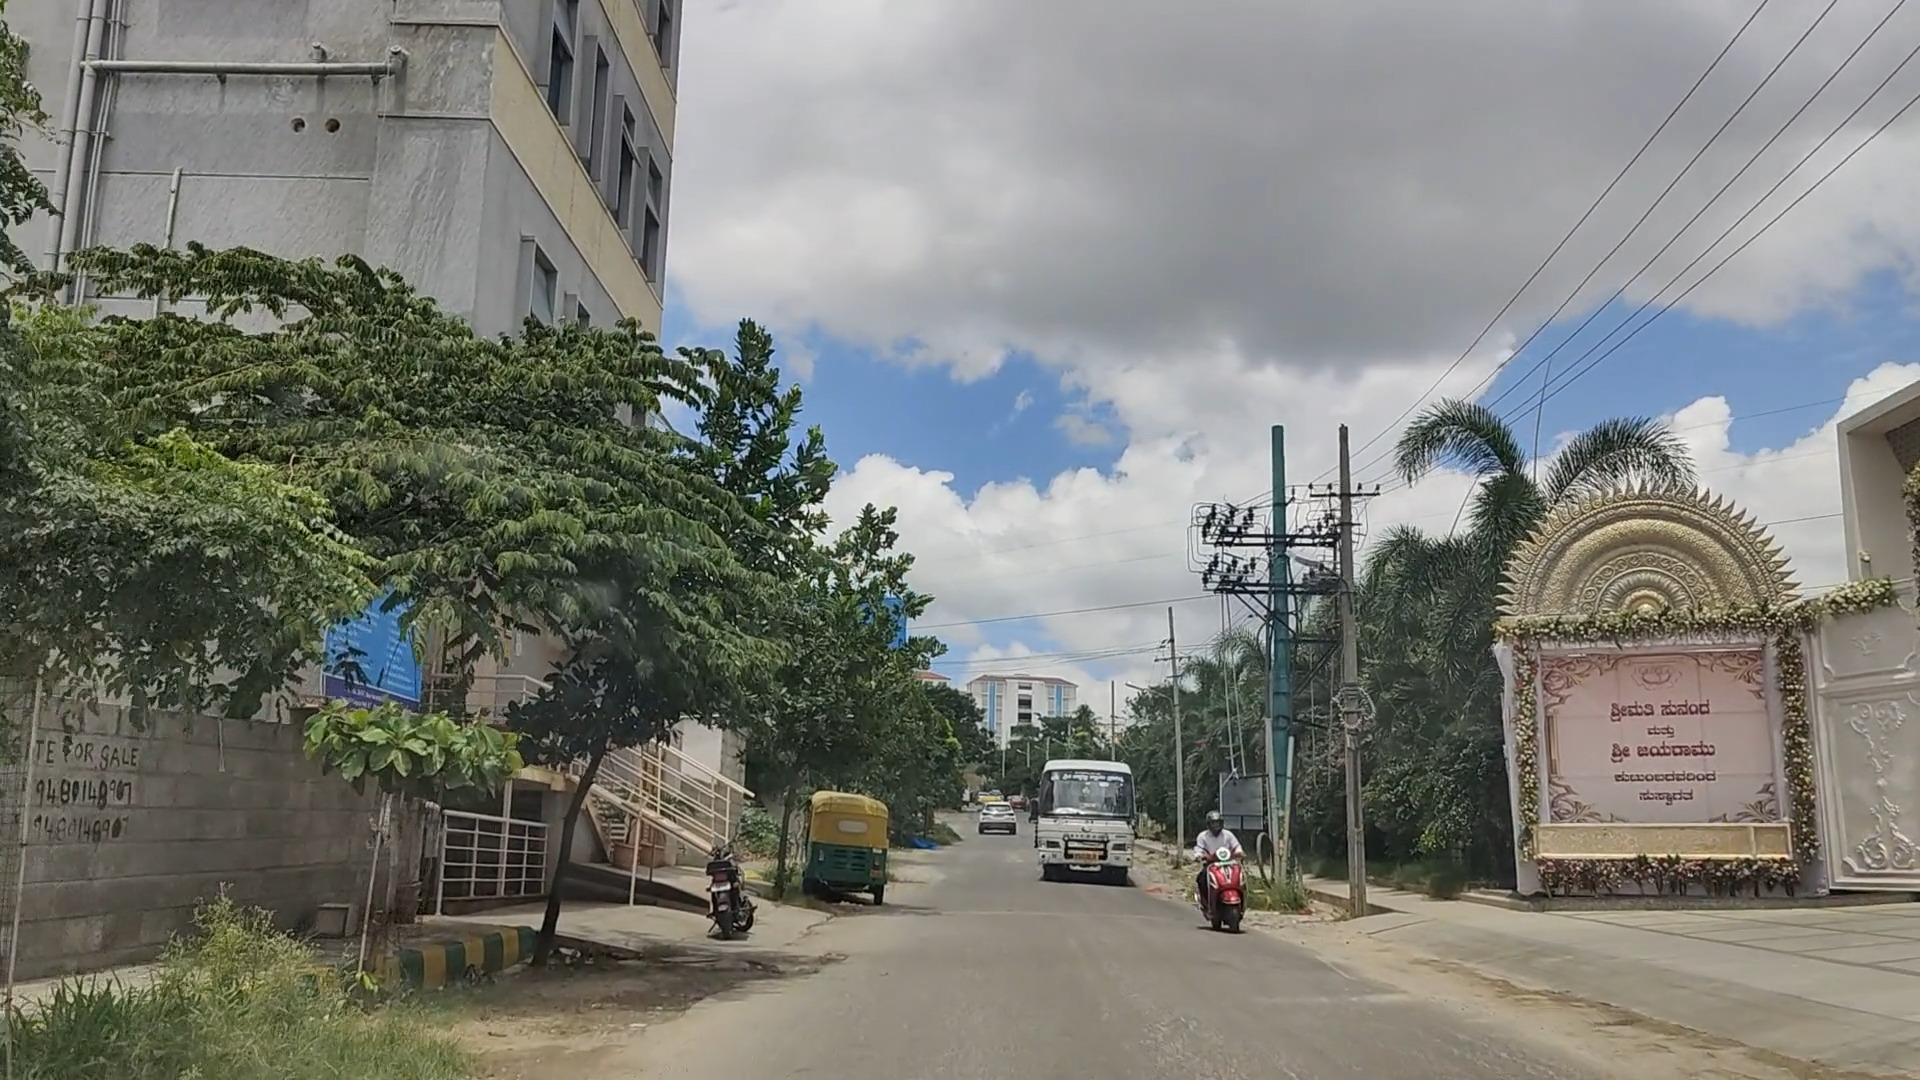HMV: (1022, 758, 1138, 895)
RoadDamages: (673, 936, 785, 993)
